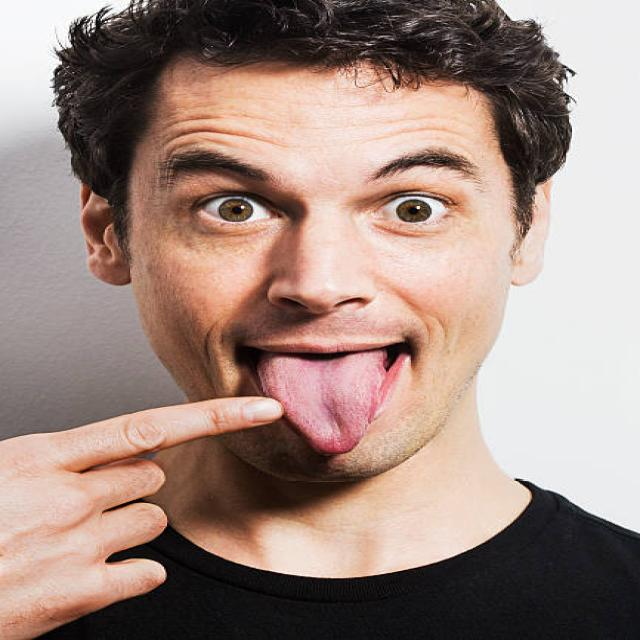tongue: (241, 353, 403, 461)
